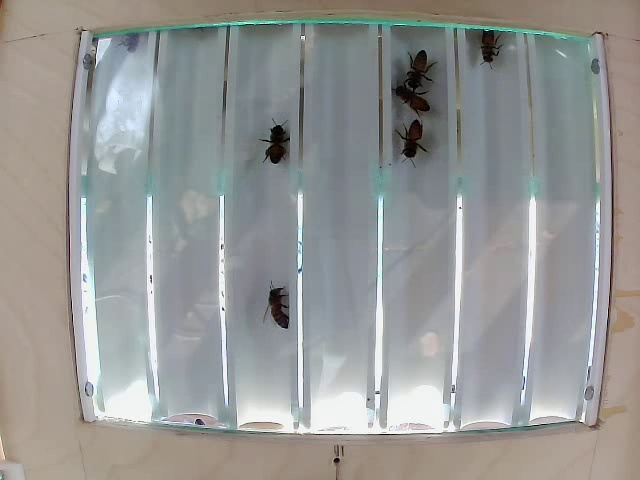bee: (391, 83, 431, 126), (404, 50, 438, 93), (478, 26, 502, 84), (403, 114, 428, 167), (254, 292, 286, 331), (269, 133, 292, 184)
